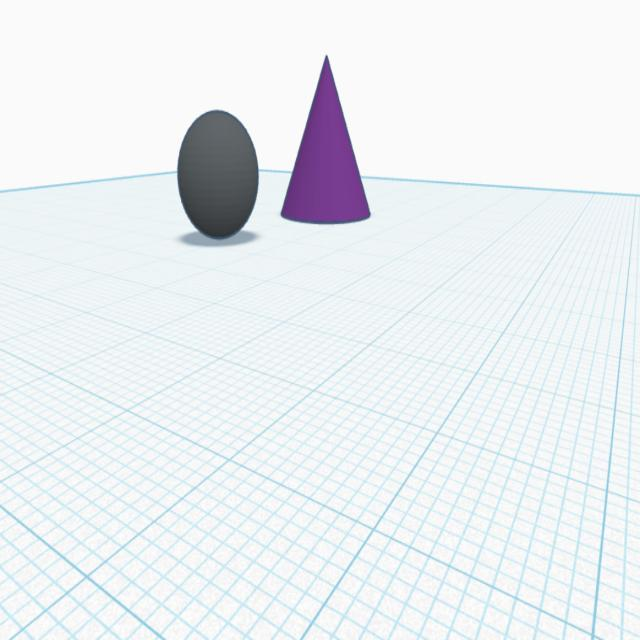cone: (276, 51, 375, 226)
sphere: (174, 105, 262, 244)
